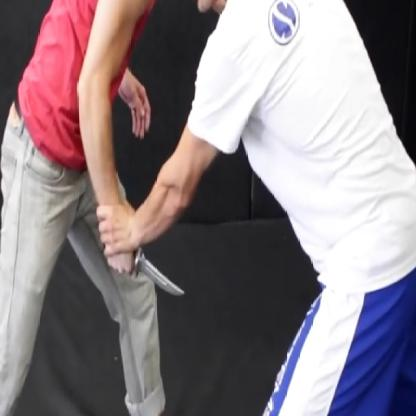knife: (98, 228, 194, 310)
